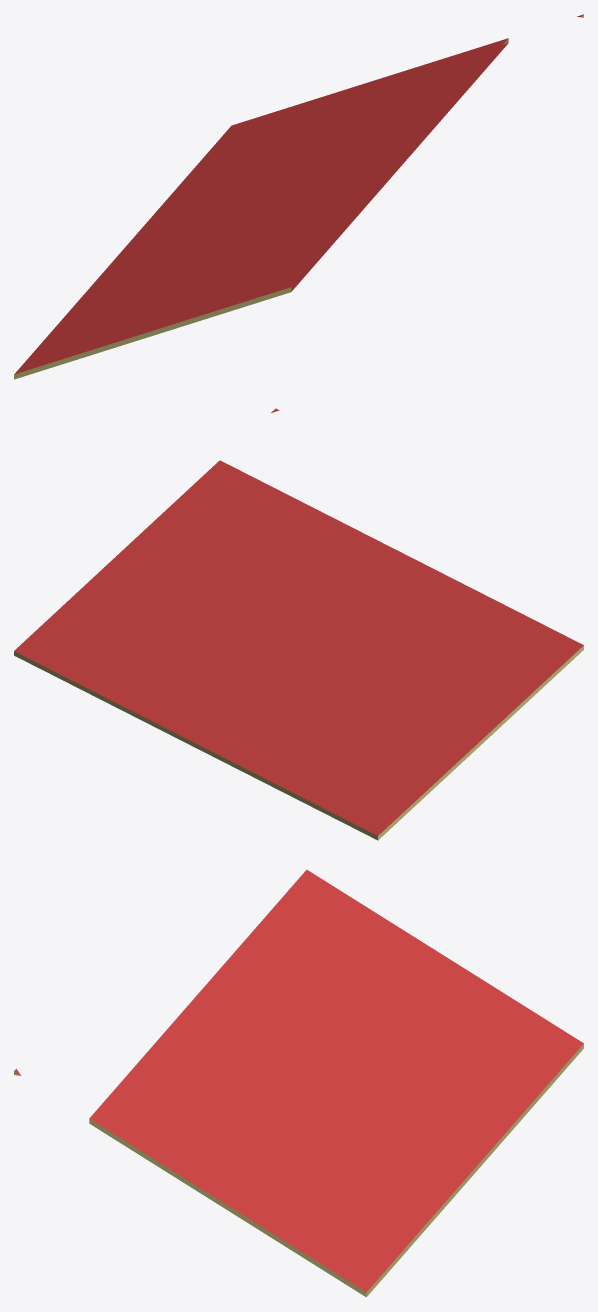
The picture shows the model from 3 angles, top to bottom: view 1: azimuth 90°, elevation 25°; view 2: azimuth 150°, elevation 25°; view 3: azimuth 270°, elevation 25°; orthographic projection. The views are drawn at different scales.
Size of the model in its own units: 12.39 by 10.21 by 3.38.
